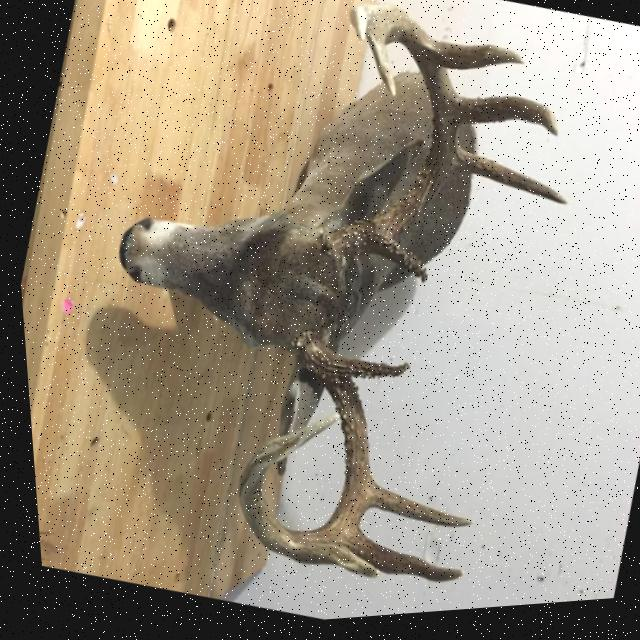L-F: (318, 9, 452, 262)
L-G1: (363, 242, 422, 289)
L-G2: (449, 149, 564, 213)
L-G3: (450, 102, 554, 145)
L-G4: (428, 44, 523, 77)
R-F: (229, 335, 361, 568)
R-G1: (330, 361, 403, 385)
R-G2: (361, 490, 464, 533)
R-G3: (336, 535, 451, 588)
